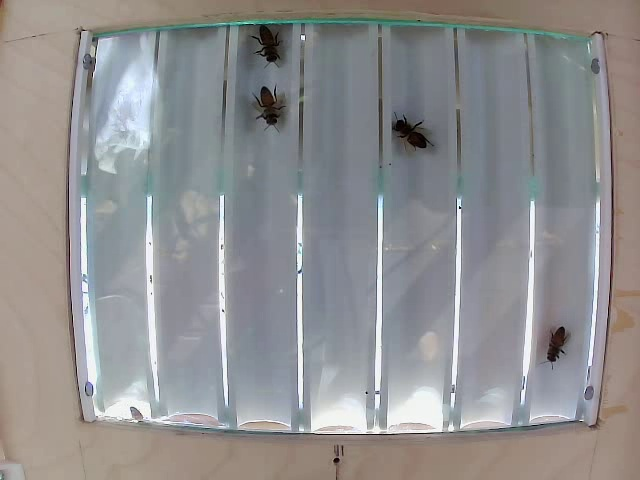bee: (391, 112, 437, 157), (250, 83, 288, 136), (247, 23, 286, 70), (545, 323, 569, 369)
